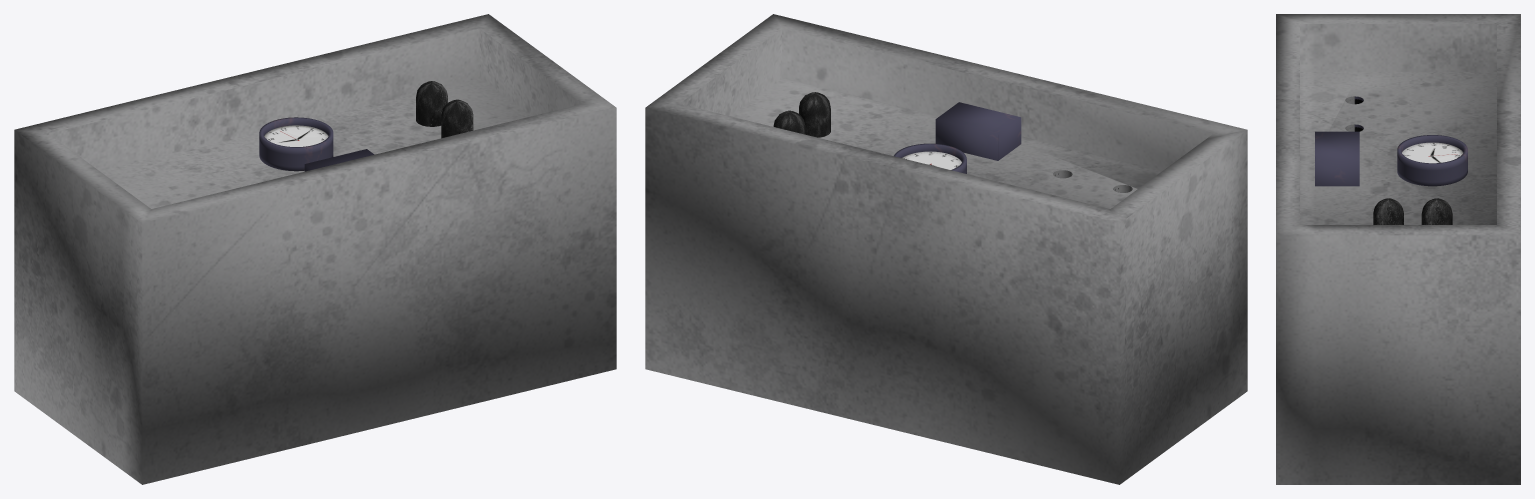
Rendered from eletroshock.fbx.
3 views of the same model, side by side, from view 1: azimuth 30°, elevation 25°; view 2: azimuth 150°, elevation 25°; view 3: azimuth 270°, elevation 25° (orthographic). The views are drawn at different scales.
Visible parts, largest first — view 1: Equipment__BOX_, Watch__Outside_, Dial_T, Watch__Inside_, Dial_B; view 2: Equipment__BOX_, Button, Dial_B, Watch__Outside_, Watch__Inside_; view 3: Equipment__BOX_, Button, Watch__Outside_, Watch__Inside_, Dial_T, Dial_B.
Boxes of the visible parts, x1=… form: Equipment__BOX_: x1=14, y1=14, x2=616, y2=484; Watch__Outside_: x1=259, y1=117, x2=333, y2=171; Dial_T: x1=416, y1=81, x2=447, y2=126; Watch__Inside_: x1=264, y1=125, x2=328, y2=146; Dial_B: x1=441, y1=99, x2=473, y2=138; Equipment__BOX_: x1=645, y1=14, x2=1247, y2=484; Button: x1=935, y1=102, x2=1021, y2=160; Dial_B: x1=799, y1=92, x2=830, y2=137; Watch__Outside_: x1=894, y1=143, x2=966, y2=173; Watch__Inside_: x1=902, y1=151, x2=961, y2=169; Equipment__BOX_: x1=1276, y1=14, x2=1520, y2=484; Button: x1=1315, y1=131, x2=1359, y2=186; Watch__Outside_: x1=1397, y1=135, x2=1467, y2=186; Watch__Inside_: x1=1402, y1=142, x2=1463, y2=163; Dial_T: x1=1421, y1=198, x2=1452, y2=224; Dial_B: x1=1373, y1=198, x2=1403, y2=224.
Bounding box in the file's own units: 56.93 × 29.97 × 26.63.
